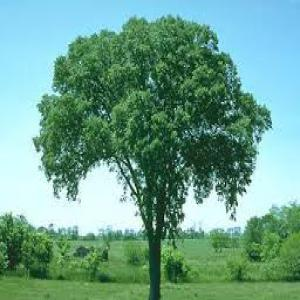Tree: (31, 11, 276, 298)
